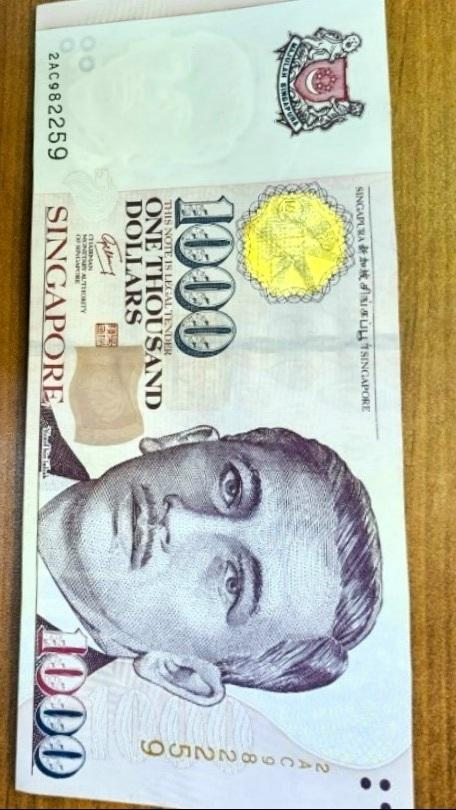1000SingaporeDollar: (36, 0, 392, 810)
